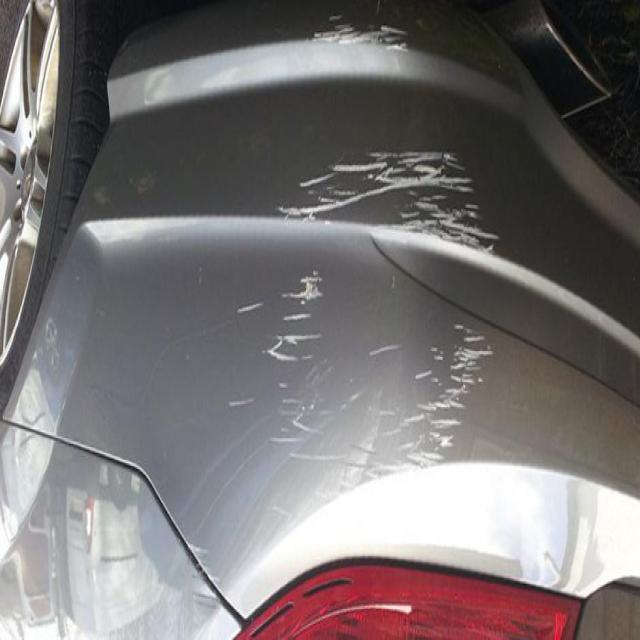scratch: (216, 111, 517, 502)
